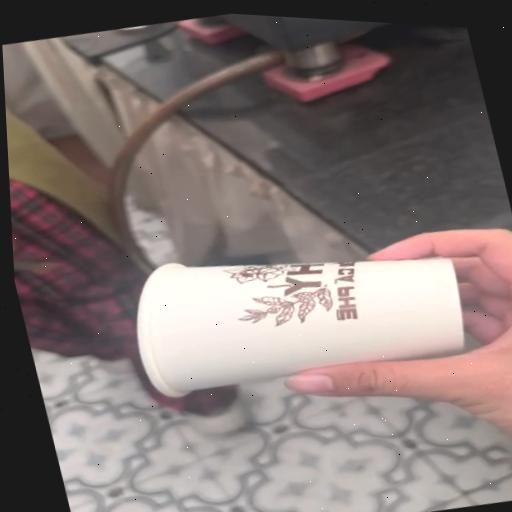Ly_giay: (138, 259, 465, 396)
